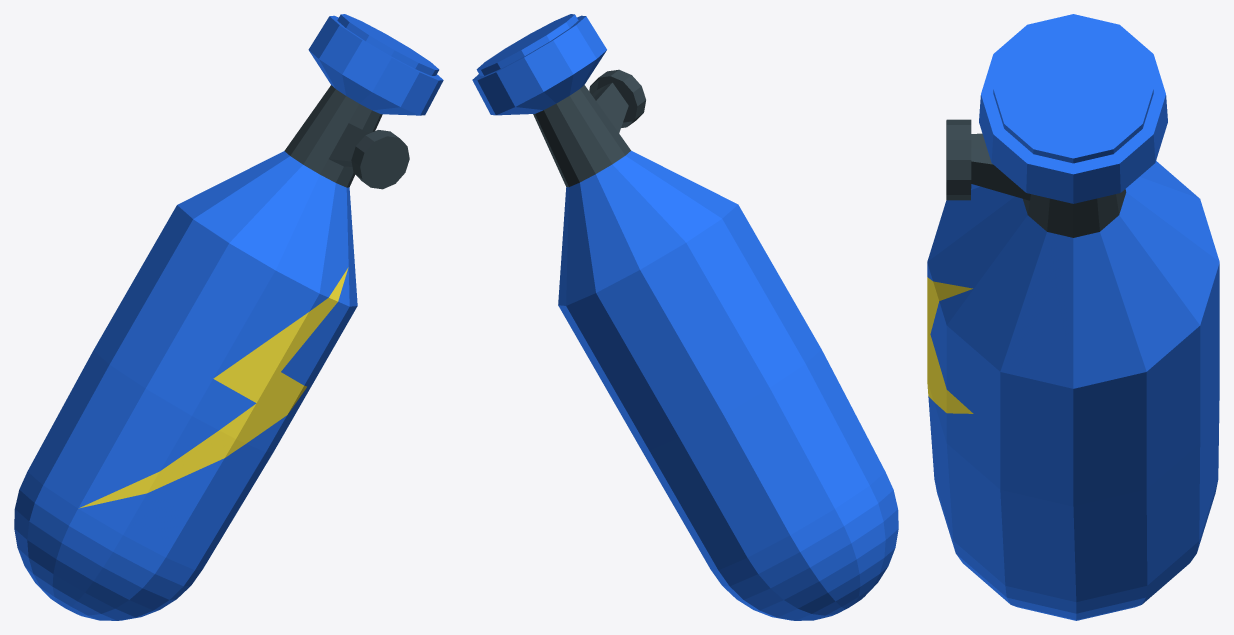
The model's file is NitroBottle.glb.
3 views of the same model, side by side, from view 1: azimuth 30°, elevation 25°; view 2: azimuth 150°, elevation 25°; view 3: azimuth 270°, elevation 25° (orthographic). The views are drawn at different scales.
Visible parts, largest first — view 1: Circle; view 2: Circle; view 3: Circle.
Boxes of the visible parts, bbox=[...] form: Circle: bbox=[14, 14, 443, 620]; Circle: bbox=[472, 14, 898, 620]; Circle: bbox=[927, 14, 1219, 620].
Bounding box in the file's own units: 0.3806 × 0.4792 × 0.17.
